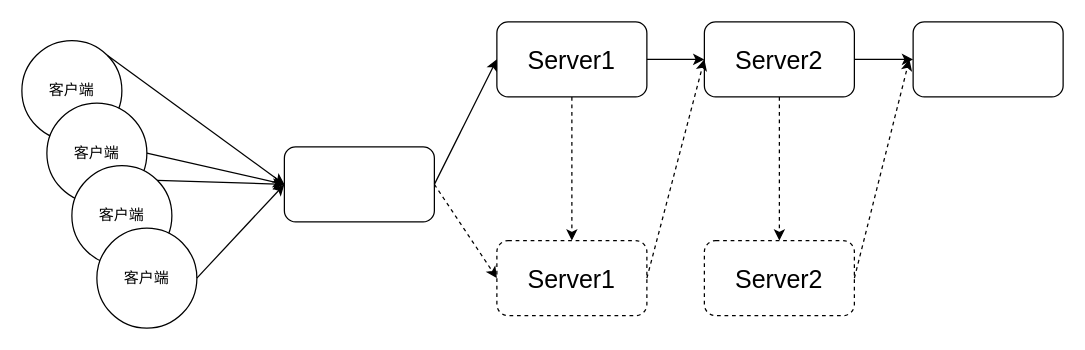
Some shapes in this 1085 by 350 pixel diagram are drawn without their labels. The shapes that lost their labels are listed below. From the top down, each one's centre as x and y in pixels, then its label:
[987,59]: Server3
[358,184]: 代理（Proxy）
